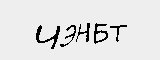Б: (93, 22, 108, 44)
Н: (74, 18, 90, 46)
Т: (110, 23, 127, 43)
Ч: (31, 23, 60, 53)
Э: (58, 23, 77, 49)
